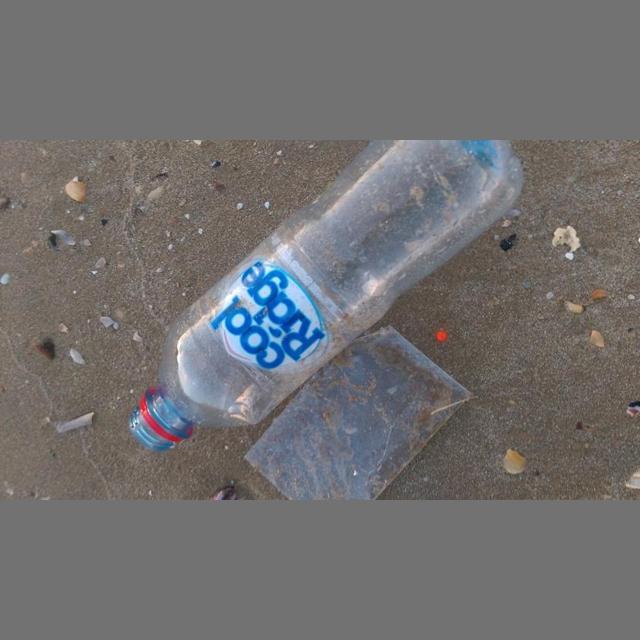litter: (130, 139, 524, 453), (243, 327, 471, 499)
